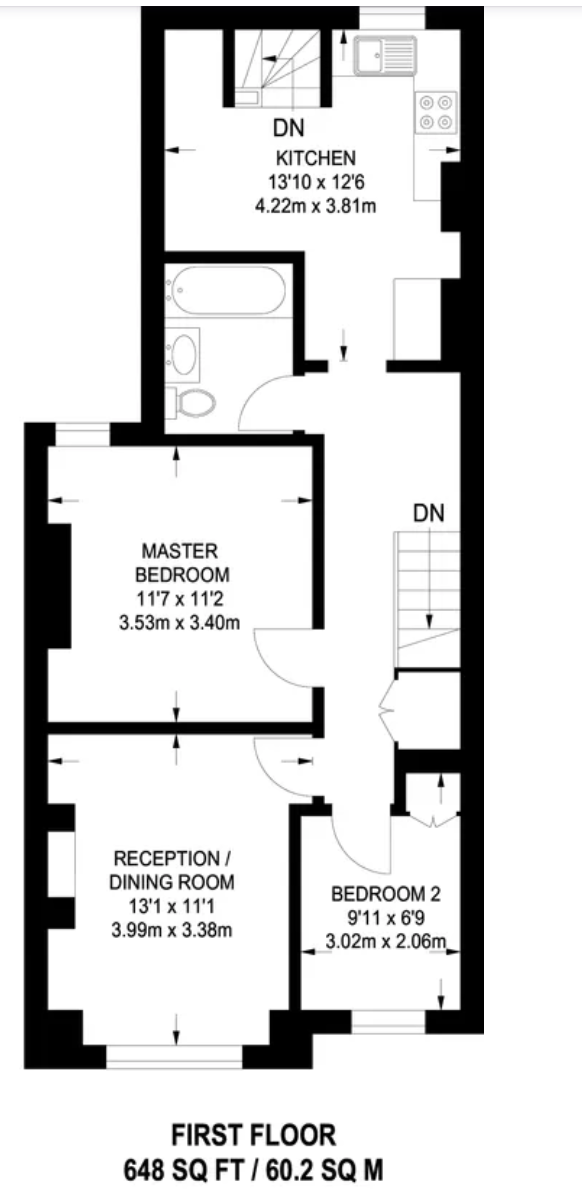basin: (165, 326, 202, 383)
bathtub: (165, 265, 288, 318)
cupboard door: (407, 810, 456, 827)
cupboard-door: (377, 678, 405, 745)
door: (247, 626, 326, 687), (247, 736, 323, 798), (330, 802, 392, 875), (237, 372, 306, 432)
sink: (350, 31, 419, 80)
stairs: (393, 527, 458, 665)
toilet: (163, 387, 213, 423)
window: (103, 1046, 239, 1072), (349, 1008, 428, 1035), (356, 7, 420, 36), (52, 422, 110, 448)
